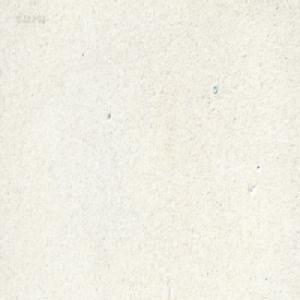Washer: (211, 83, 217, 94)
